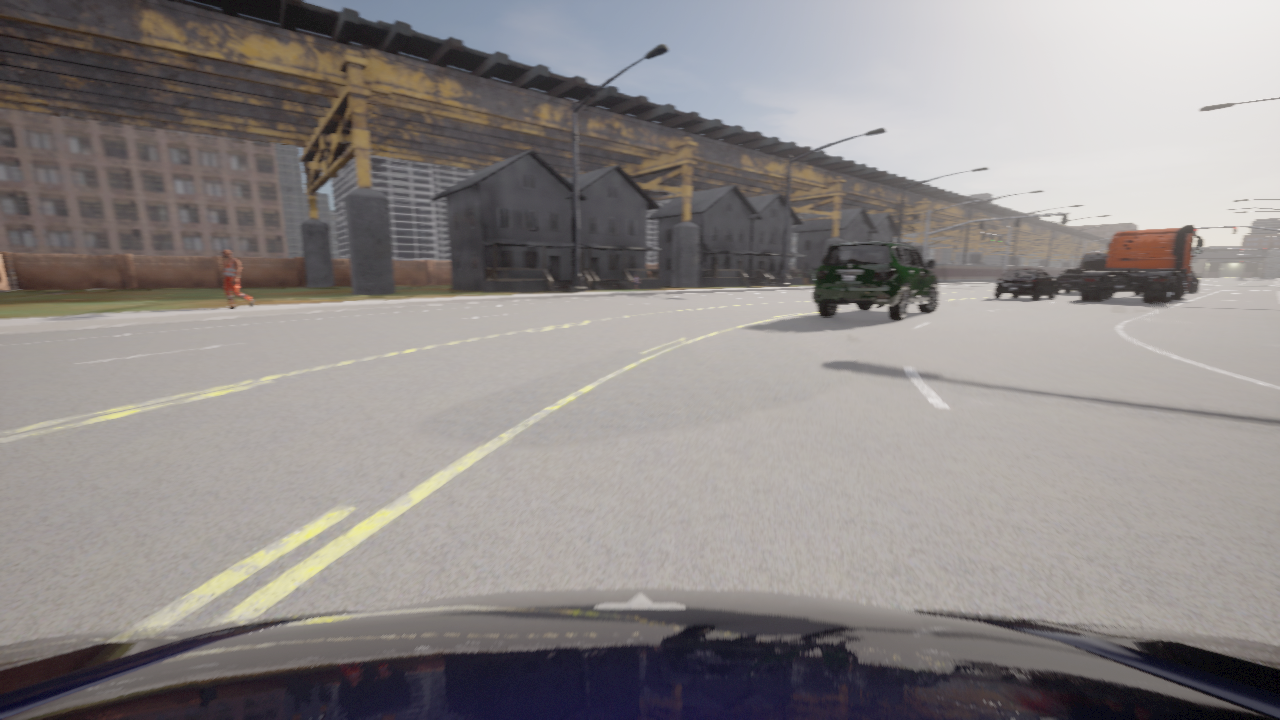cyclist: (0, 588, 1279, 719), (813, 241, 938, 320), (1079, 225, 1203, 302), (994, 269, 1057, 300), (1077, 254, 1108, 291), (1055, 269, 1095, 293), (1187, 270, 1201, 292), (1134, 291, 1186, 294)
pedestrian: (223, 249, 254, 309), (633, 274, 639, 291)
